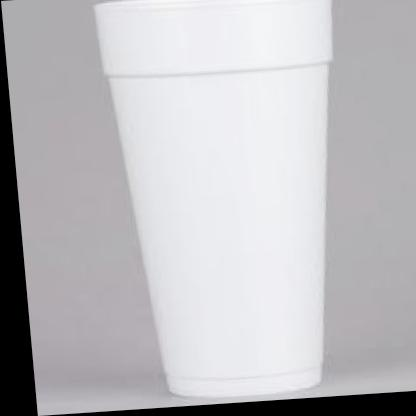Plastic: (78, 0, 370, 412)
